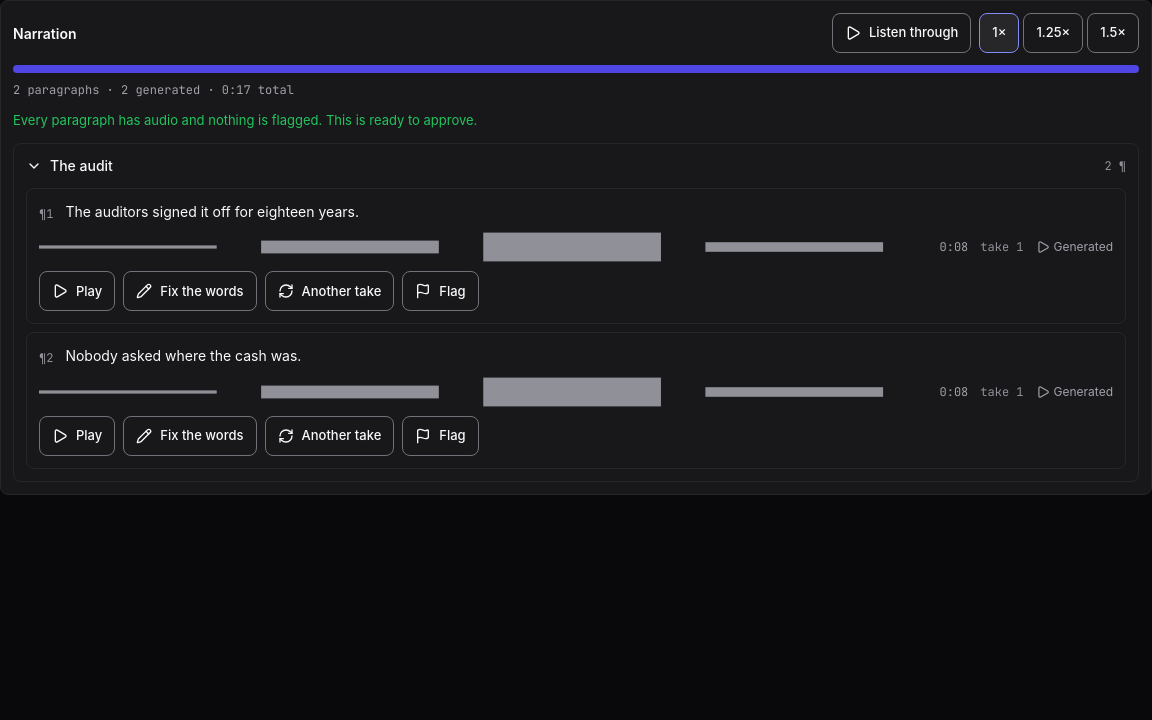
Test: VoiceReview › flagging › requires a note, so the row still means something a week later
Click the 1st button "Flag": (440, 291) 402,271 -> 479,311
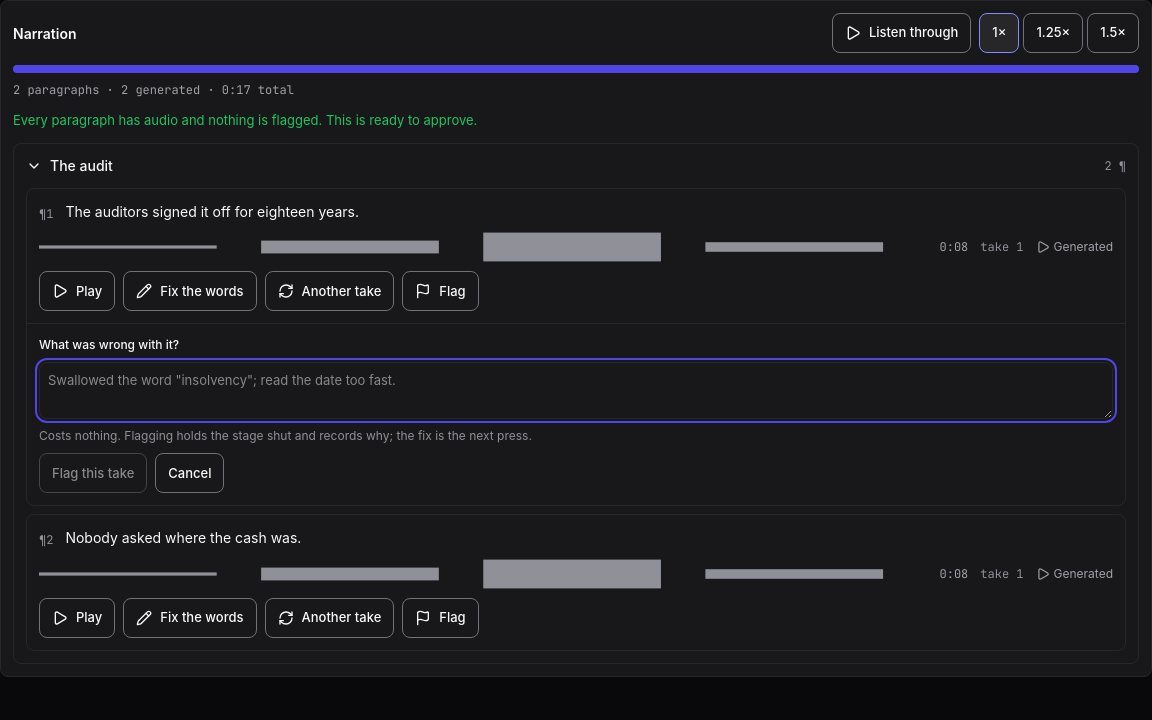
Check: the button "Flag this take" is disabled, box 39,453 -> 147,493
